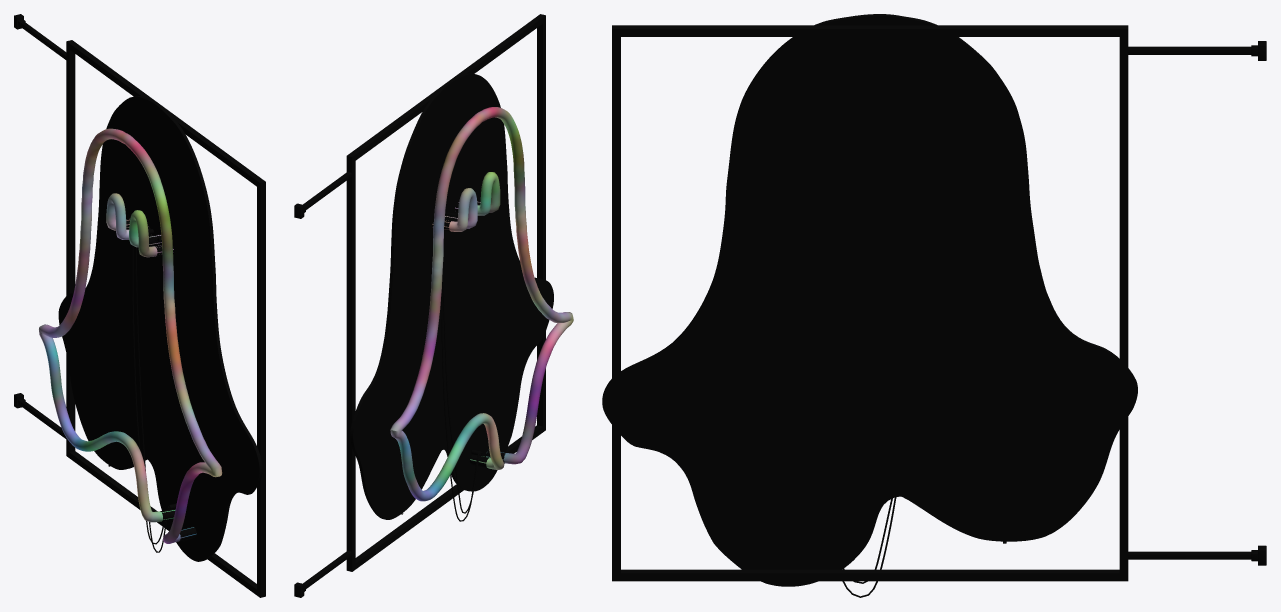
Rendered from neonsign_20.fbx.
3 views of the same model, side by side, from view 1: azimuth 30°, elevation 25°; view 2: azimuth 150°, elevation 25°; view 3: azimuth 270°, elevation 25° (orthographic). The views are drawn at different scales.
Visible parts, largest first — view 1: neonsign_20; view 2: neonsign_20; view 3: neonsign_20.
Part boxes in pixels (bbox=[...]): neonsign_20: bbox=[14, 14, 265, 597]; neonsign_20: bbox=[294, 14, 573, 597]; neonsign_20: bbox=[602, 14, 1266, 597].
Size of the model in its own units: 0.1537 by 1.48 by 1.51.
